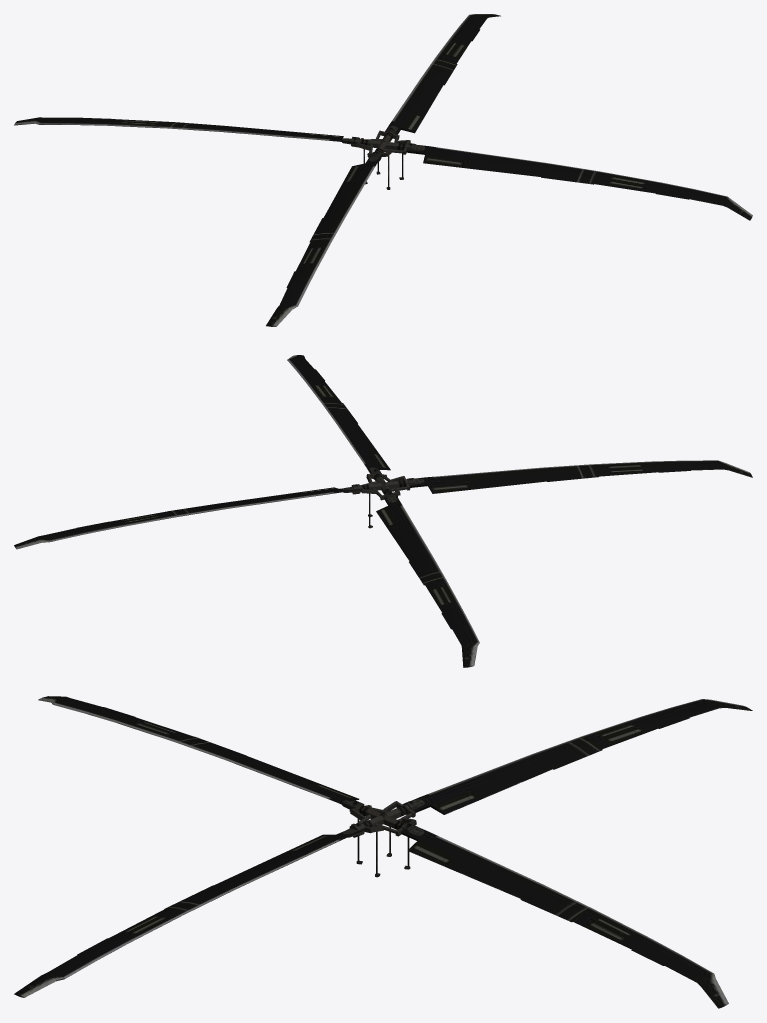
The model's file is heli_uh60_rotor.glb.
3 views of the same model, one above another, from view 1: azimuth 30°, elevation 25°; view 2: azimuth 150°, elevation 25°; view 3: azimuth 270°, elevation 25° (orthographic). The views are drawn at different scales.
Visible parts, largest first — view 1: heli_uh60_rotor; view 2: heli_uh60_rotor; view 3: heli_uh60_rotor.
Boxes of the visible parts, box(x1,y1,x2,y2) form: heli_uh60_rotor: box(14, 14, 752, 326); heli_uh60_rotor: box(14, 355, 752, 667); heli_uh60_rotor: box(14, 696, 752, 1008).
Size of the model in its own units: 12.21 by 0.9715 by 12.21.
Materials: 1 (1 with a texture image).
